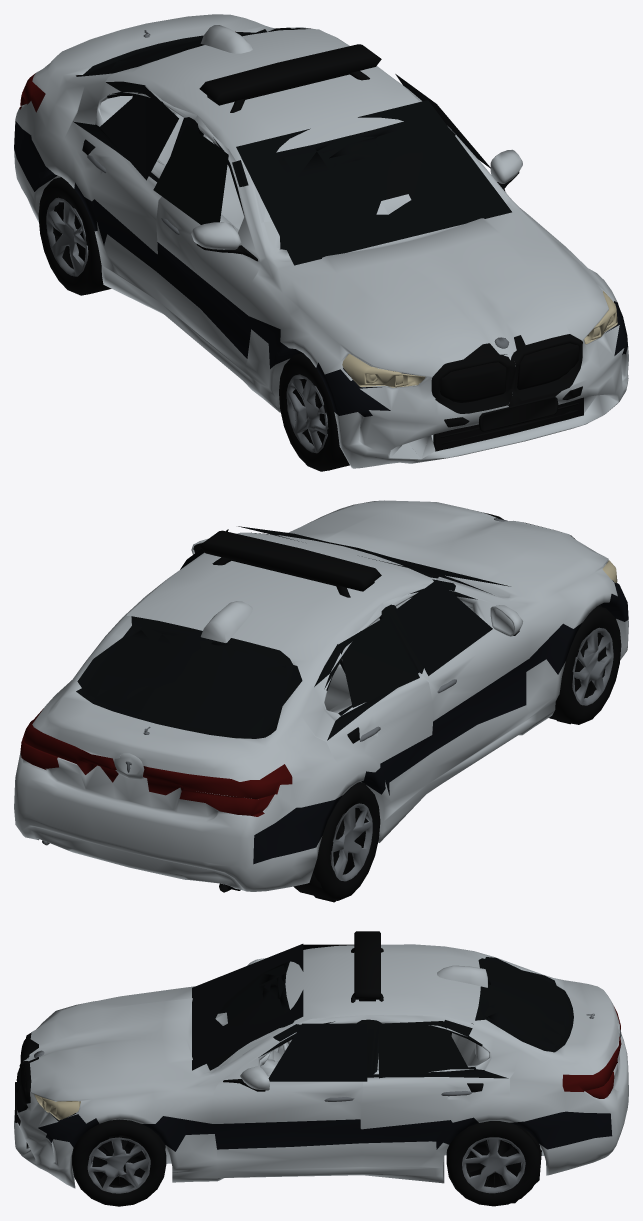
File: UserPoliceCar_LOD1.obj
3 views of the same model, one above another, from view 1: azimuth 30°, elevation 25°; view 2: azimuth 150°, elevation 25°; view 3: azimuth 270°, elevation 25° (orthographic). The views are drawn at different scales.
Visible parts, largest first — view 1: UserPoliceCar.001; view 2: UserPoliceCar.001; view 3: UserPoliceCar.001.
Part boxes in pixels (x1,y1,x2,y2): UserPoliceCar.001: (14,14,628,471); UserPoliceCar.001: (14,500,628,902); UserPoliceCar.001: (14,931,628,1206).
Size of the model in its own units: 2.23 by 1.64 by 4.7.
